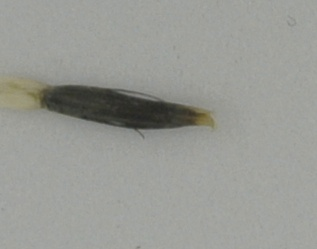เมล้ดปลายพู่กัน: (1, 73, 219, 142)
